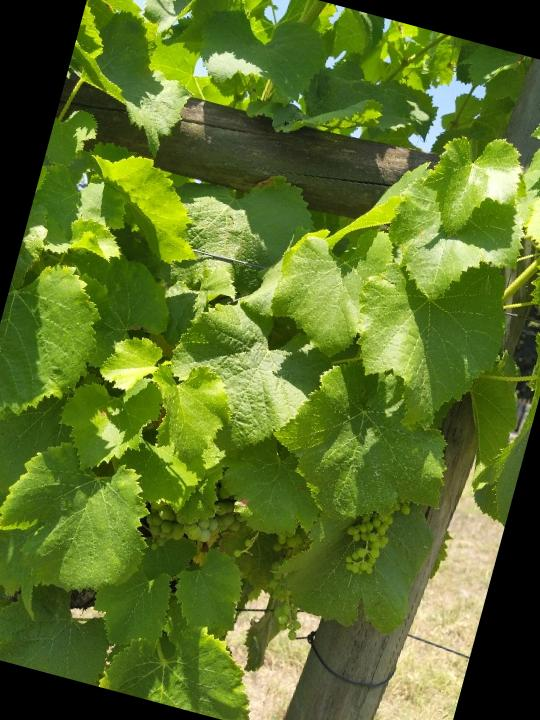grape: (336, 488, 419, 590)
